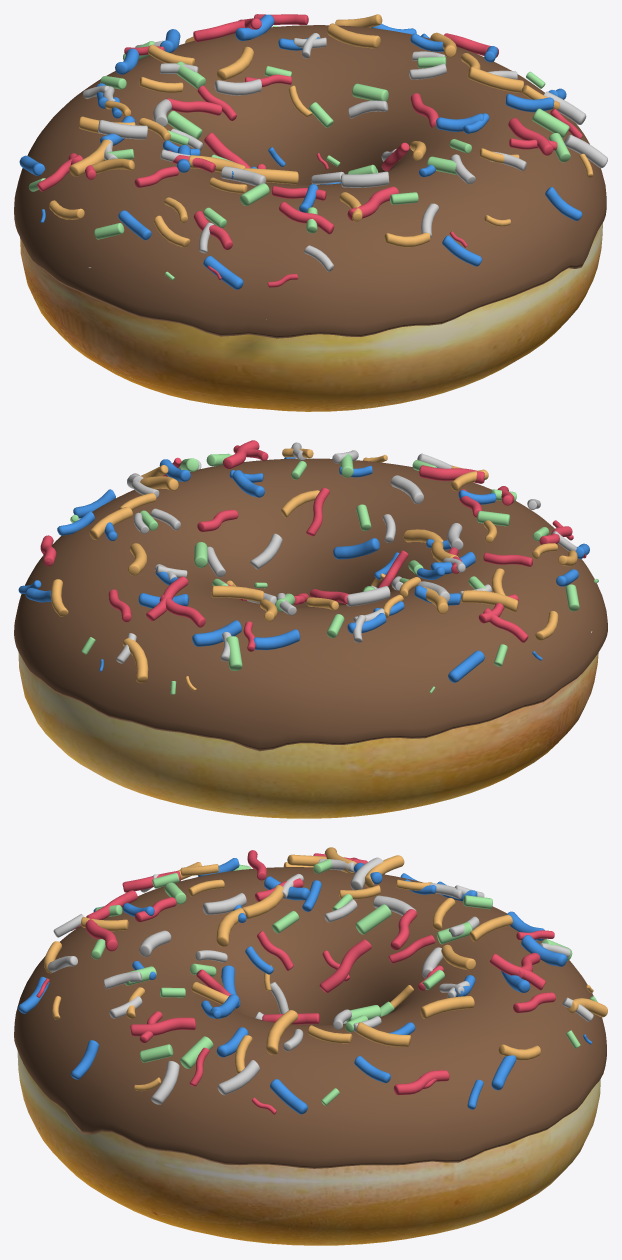
Rendered from coffee rainbow vermicheli.glb.
The picture shows the model from 3 angles, top to bottom: view 1: azimuth 30°, elevation 25°; view 2: azimuth 150°, elevation 25°; view 3: azimuth 270°, elevation 25°; orthographic projection. The views are drawn at different scales.
Parts seen in each view (by area): view 1: chocolate.001, rainbow, Torus; view 2: chocolate.001, Torus, rainbow; view 3: chocolate.001, rainbow, Torus.
Part boxes in pixels (box(x1,y1,x2,y2)): chocolate.001: box(14, 25, 606, 338); rainbow: box(19, 14, 607, 319); Torus: box(20, 223, 602, 411); chocolate.001: box(14, 458, 607, 751); Torus: box(18, 652, 598, 818); rainbow: box(18, 440, 598, 694); chocolate.001: box(14, 867, 606, 1168); rainbow: box(18, 847, 607, 1114); Torus: box(17, 1051, 600, 1245).
Size of the model in its own units: 0.1995 by 0.0811 by 0.1981.
7 materials, 1 textured.
